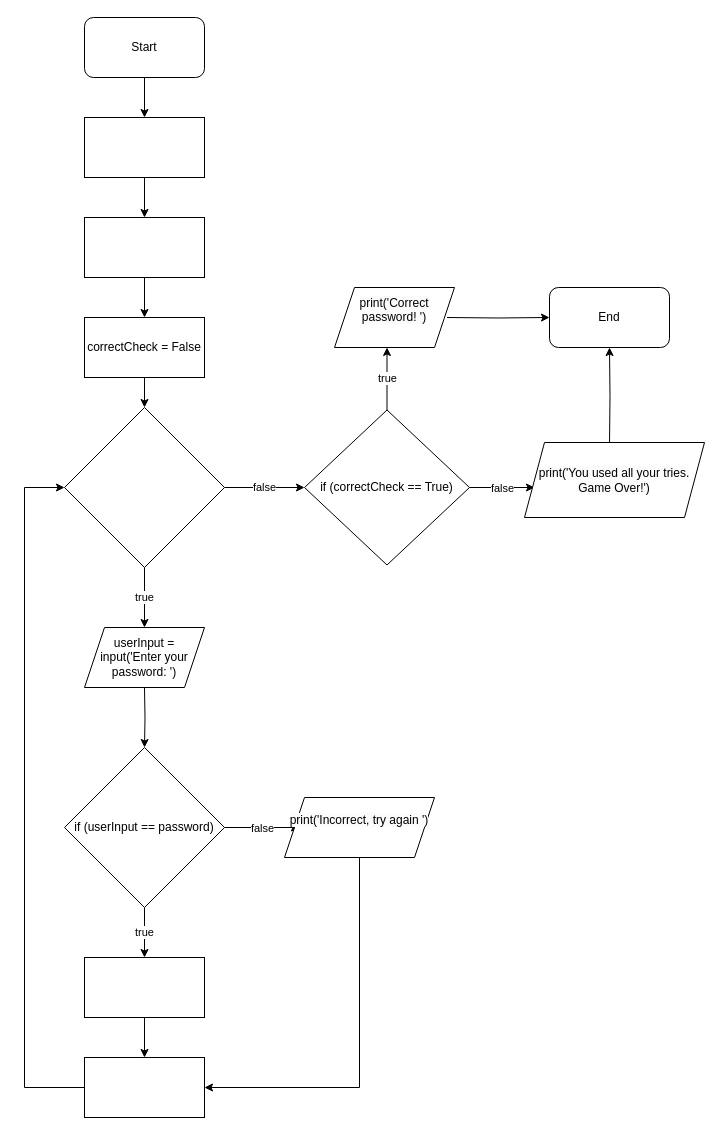
Some shapes in this 722 by 1135 pixel diagram are drawn without their labels. The centre of each missing label's shape, as x and y in pixels:
correctCheck = True: the point at 144,987
counter = (counter + 1): the point at 144,1087
counter = 0: the point at 144,247
password = 'Banana: the point at 144,147
while ((counter < 3) and (correctCheck == False)): the point at 144,487
